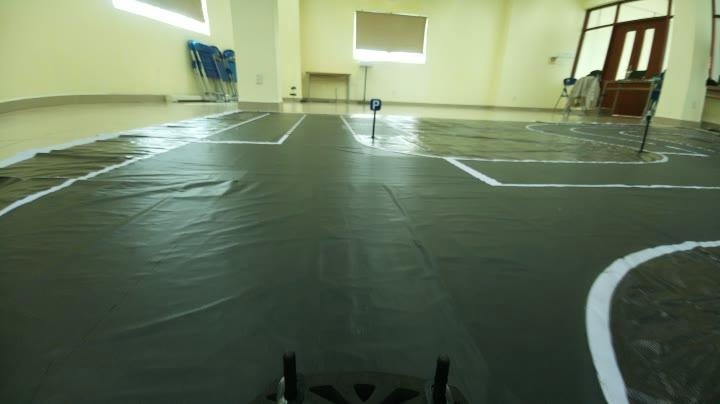parking: (368, 93, 383, 108)
